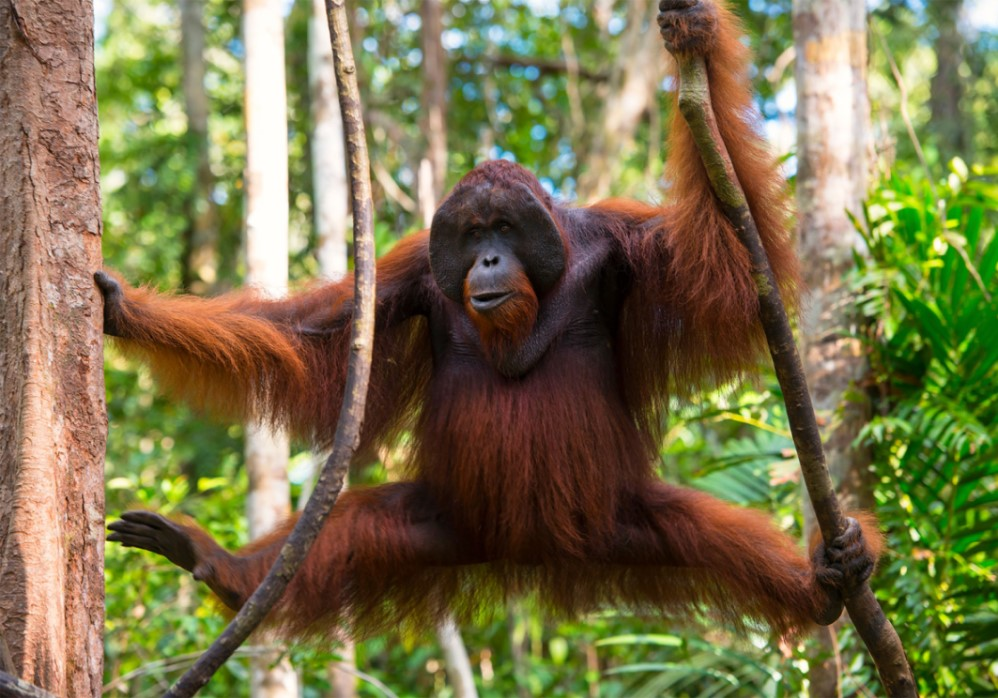Orangutan: (139, 167, 812, 616)
